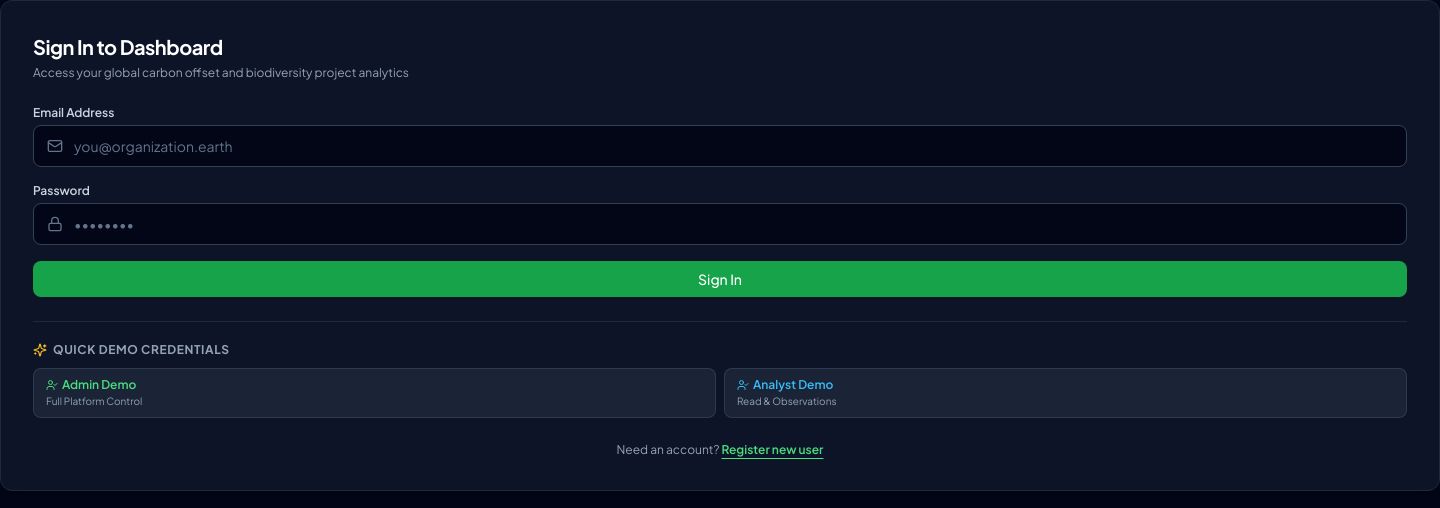
LoginPage Component › populates analyst demo credentials when Analyst Demo button is clicked
Click the button "Analyst Demo Read & Observations" at {"x": 793, "y": 384}, box 724,368 -> 1407,418
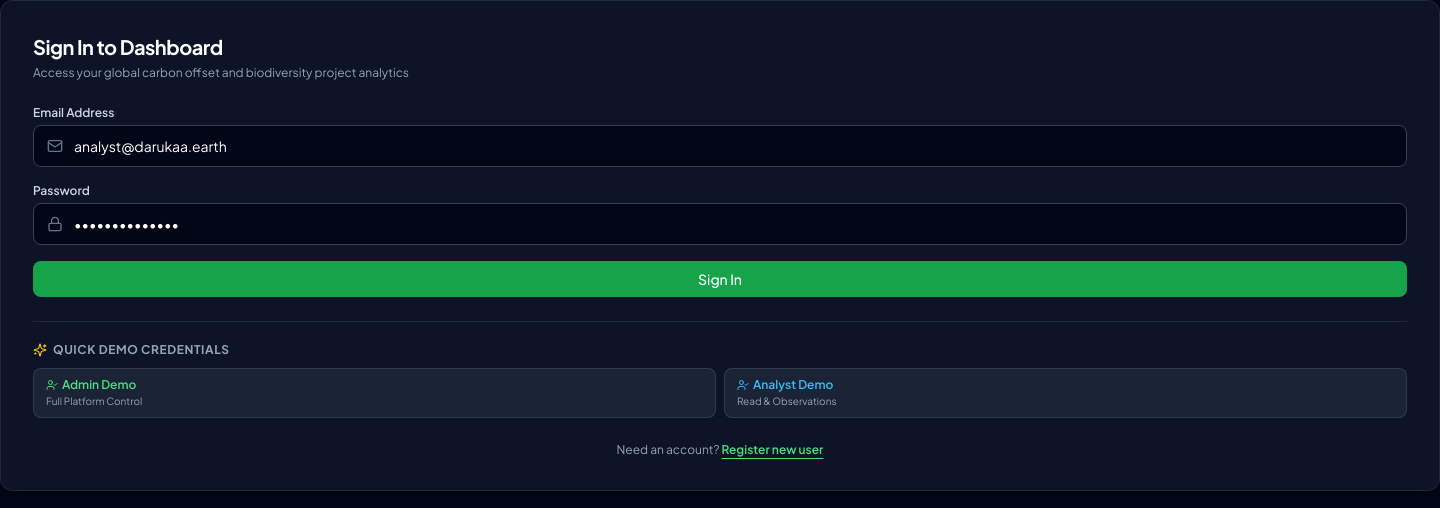
expect the field with placeholder "you@organization.earth" holds "analyst@darukaa.earth": met, box 33,125 -> 1407,167
expect the password field with placeholder "••••••••" holds "Analyst@123456": met, box 33,203 -> 1407,245
